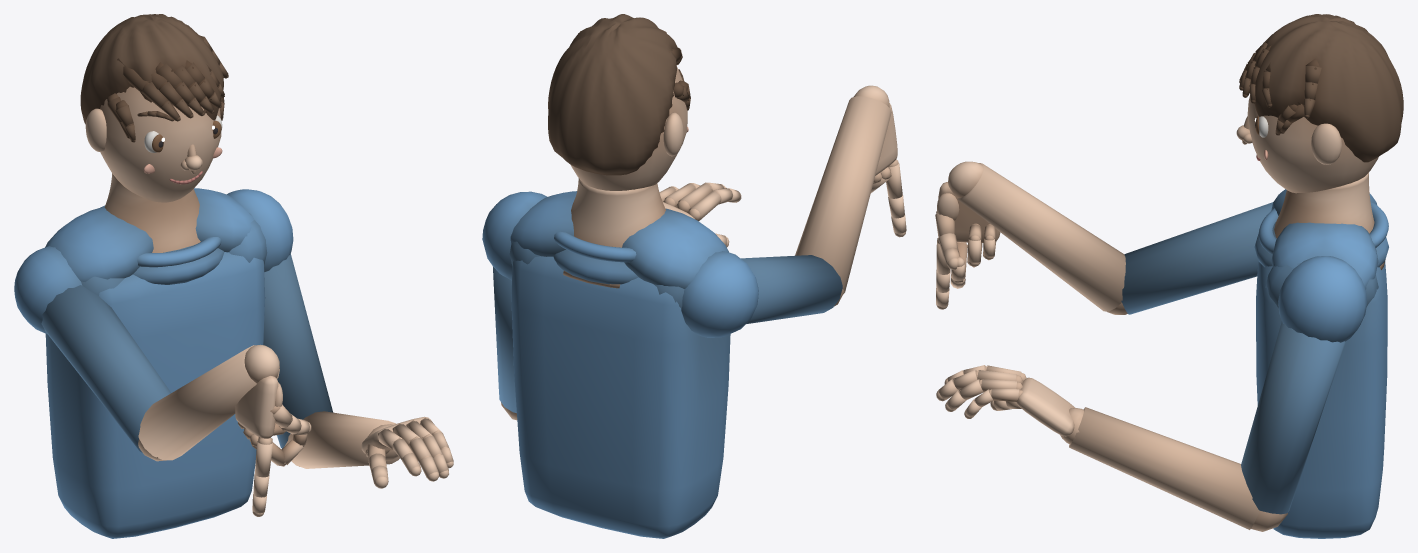
The picture shows the model from 3 angles, left to right: view 1: azimuth 30°, elevation 25°; view 2: azimuth 150°, elevation 25°; view 3: azimuth 270°, elevation 25°; orthographic projection.
Parts seen in each view (by area): view 1: LSC_Body; view 2: LSC_Body; view 3: LSC_Body.
Boxes of the visible parts, x1,y1,x2,y2 form: LSC_Body: (14,14,453,538); LSC_Body: (482,14,906,538); LSC_Body: (935,14,1403,538).
Size of the model in its own units: 0.422 by 0.713 by 0.6118.
